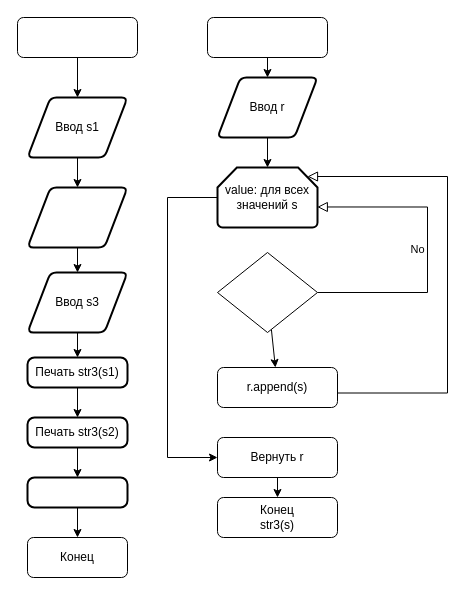
This 475x595 diagram has some shape labels left out. Here are the shapes that lost their labels. From the top down, the centre of each, then its label:
At [77,37]: "Начало".
At [267,37]: "Начало str3(s)".
At [77,217]: "Ввод s2".
At [267,292]: "длина s <= 3?".
At [77,492]: "Печать str3(s3)".
